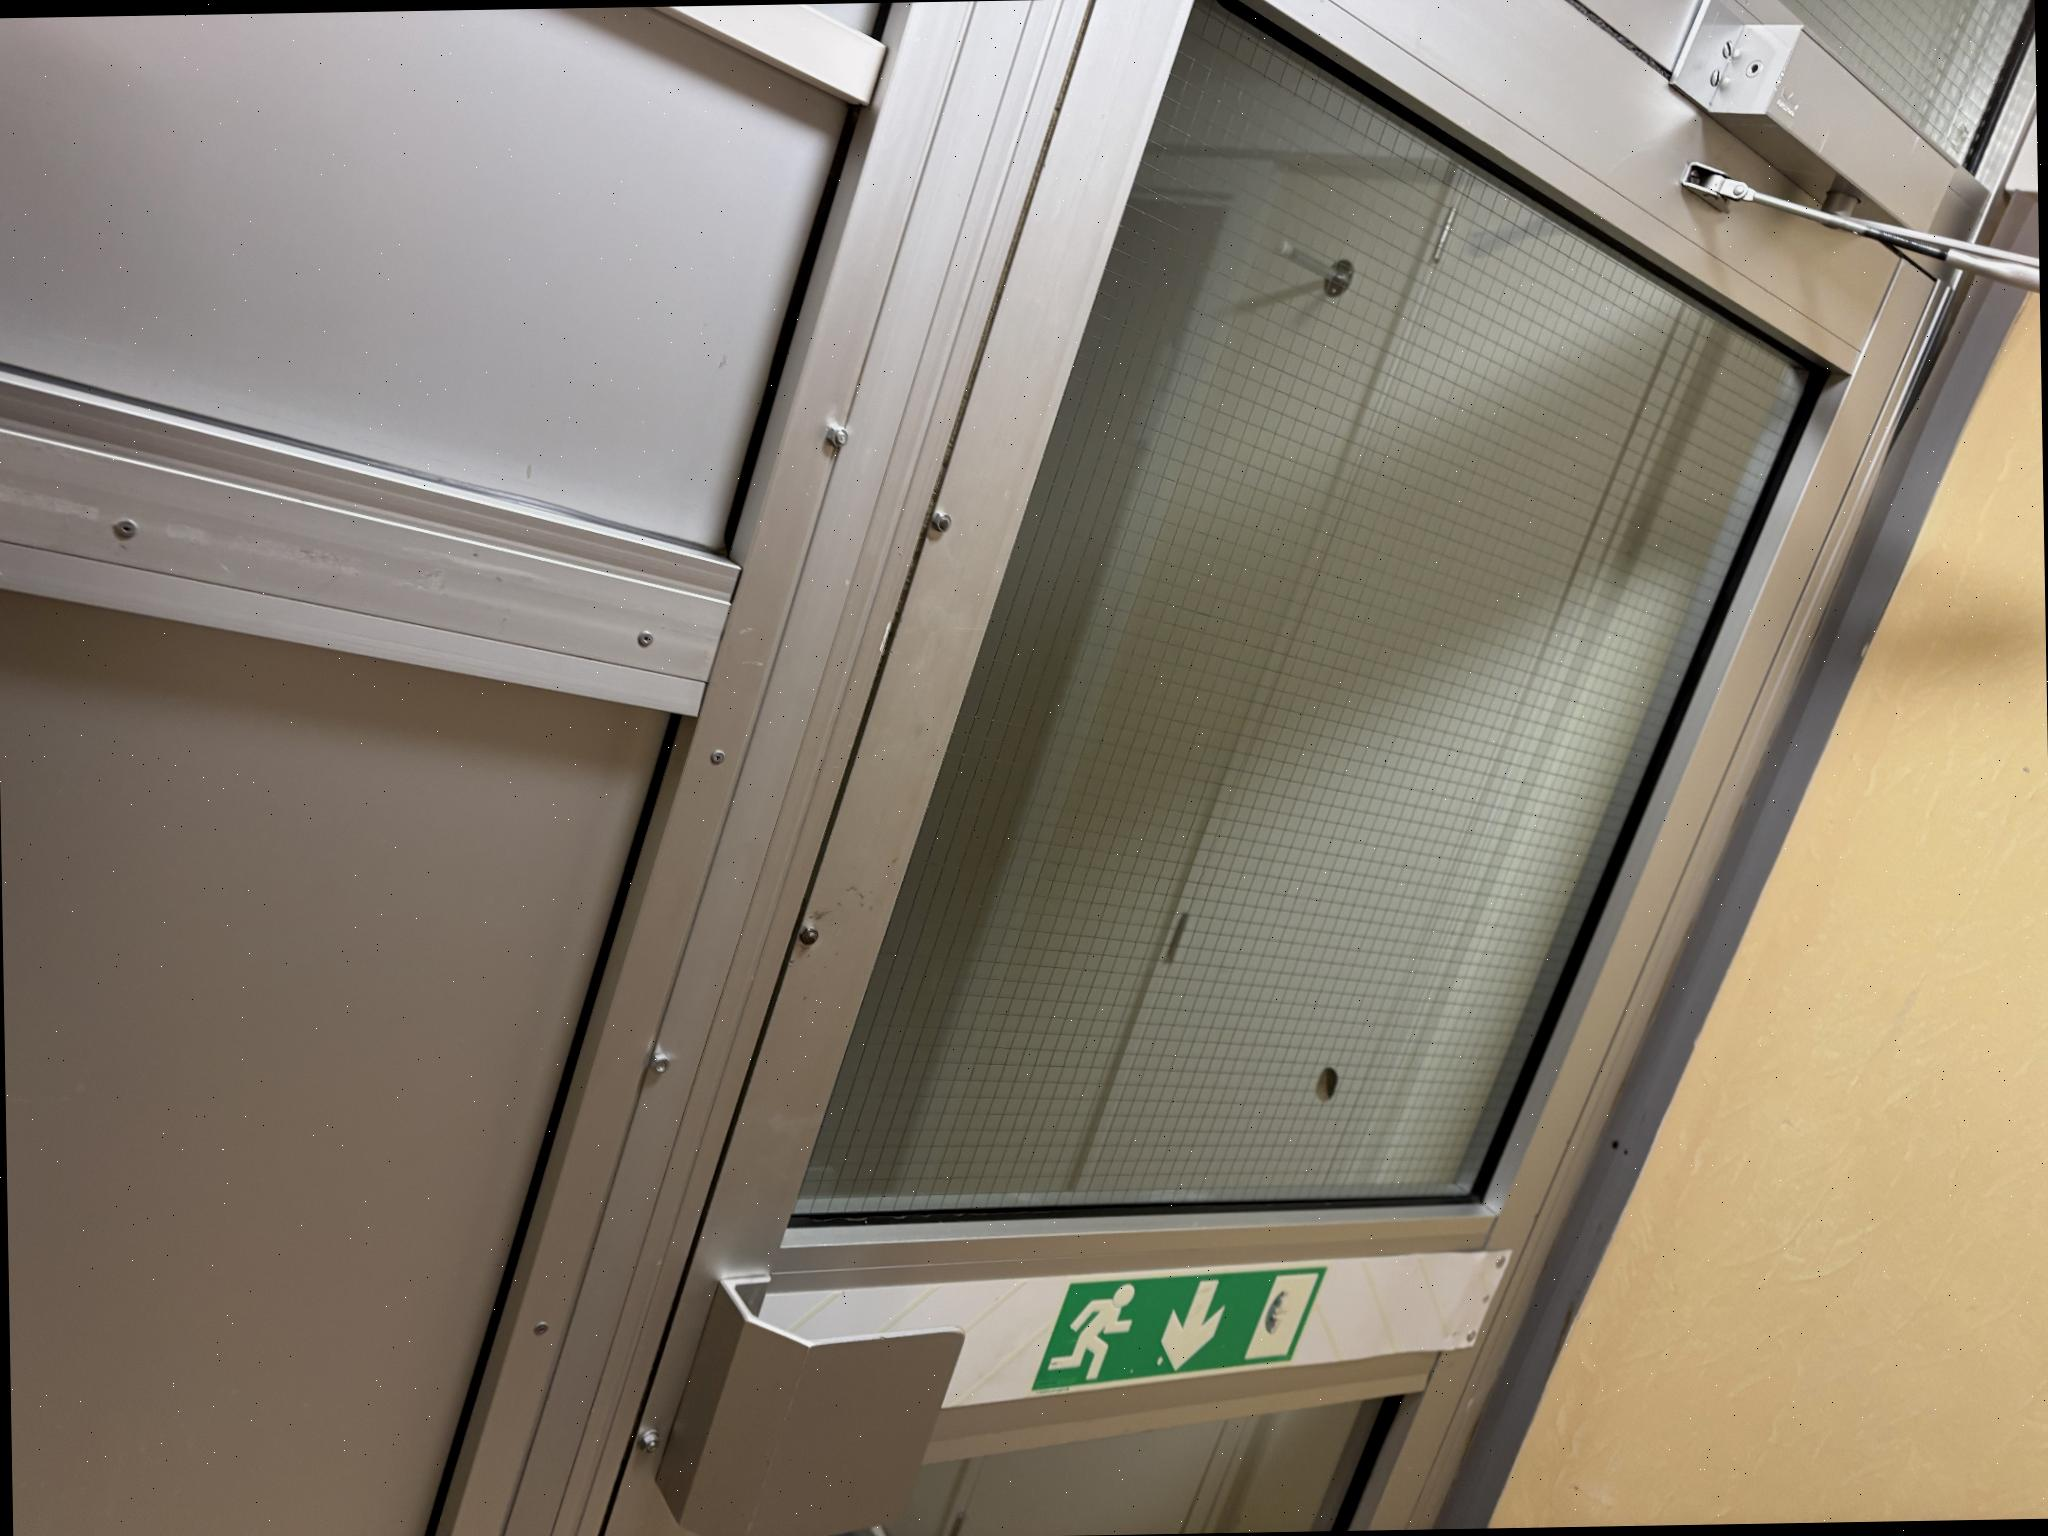exit_sign: (1026, 1268, 1321, 1391)
